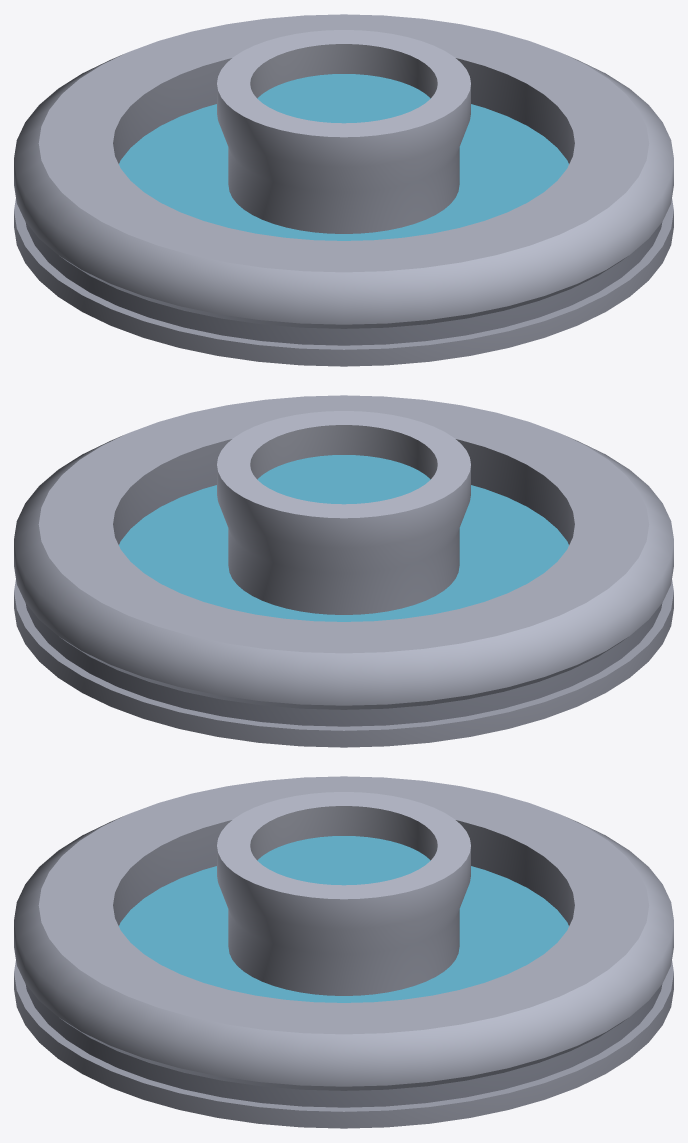
The model's file is fountain-round-detail.glb.
3 views of the same model, one above another, from view 1: azimuth 30°, elevation 25°; view 2: azimuth 150°, elevation 25°; view 3: azimuth 270°, elevation 25° (orthographic).
Visible parts, largest first — view 1: fountain-round-detail; view 2: fountain-round-detail; view 3: fountain-round-detail.
Boxes of the visible parts, box(x1,y1,x2,y2) form: fountain-round-detail: box(14, 14, 673, 366); fountain-round-detail: box(14, 395, 673, 747); fountain-round-detail: box(14, 776, 673, 1128).
Size of the model in its own units: 2 by 0.48 by 2.
